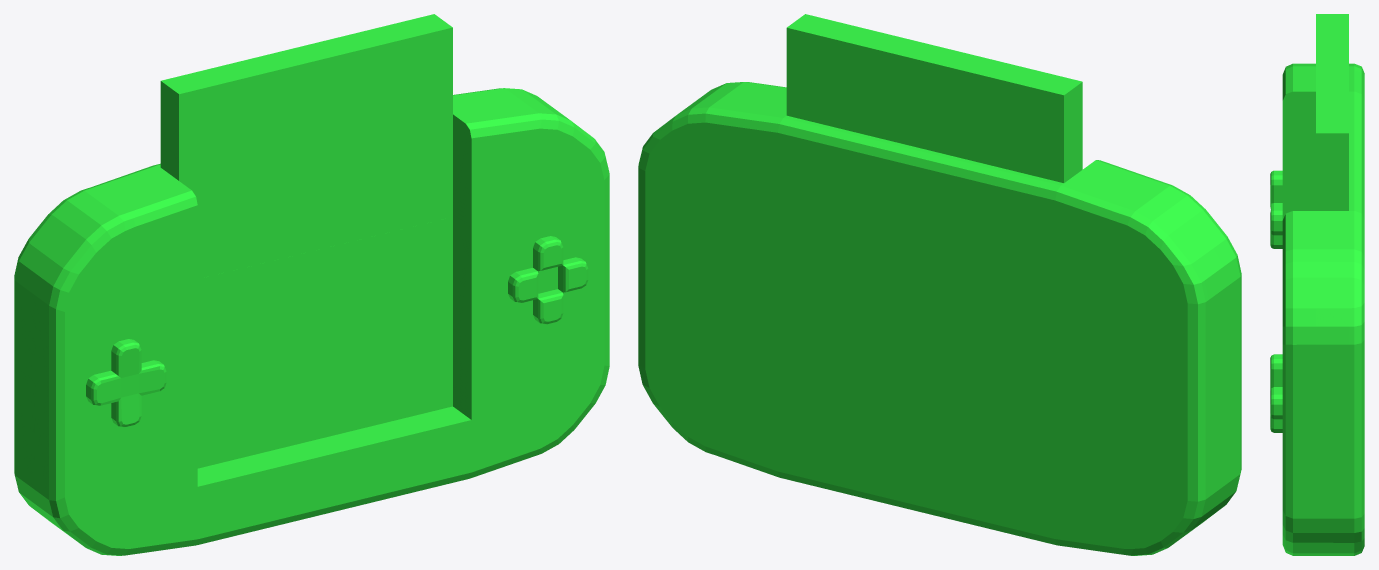
Rendered from StandBy_HandHeld_IndividualOrigins_Jun24_Untextured.fbx.
The picture shows the model from 3 angles, left to right: view 1: azimuth 30°, elevation 25°; view 2: azimuth 150°, elevation 25°; view 3: azimuth 270°, elevation 25°; orthographic projection. The views are drawn at different scales.
Parts seen in each view (by area): view 1: ConsoleBase, ConsoleScreenFront.001, ConsoleScreenBack, ButtonCross, ButtonCrossLeft, ButtonUp, ButtonCrossDown, ButtonCrossRight; view 2: ConsoleBase, ConsoleScreenFront.001; view 3: ConsoleBase, ConsoleScreenFront.001, ButtonCross, ButtonCrossRight, ButtonUp, ButtonCrossDown.
Part boxes in pixels (<box>): ConsoleBase: <box>14,88,609,555</box>; ConsoleScreenFront.001: <box>160,14,452,278</box>; ConsoleScreenBack: <box>197,217,452,468</box>; ButtonCross: <box>86,339,166,427</box>; ButtonCrossLeft: <box>508,268,538,302</box>; ButtonUp: <box>533,236,563,271</box>; ButtonCrossDown: <box>533,289,563,324</box>; ButtonCrossRight: <box>558,257,588,292</box>; ConsoleBase: <box>638,82,1241,555</box>; ConsoleScreenFront.001: <box>786,14,1082,182</box>; ConsoleBase: <box>1282,63,1364,555</box>; ConsoleScreenFront.001: <box>1316,14,1348,210</box>; ButtonCross: <box>1270,170,1282,248</box>; ButtonCrossRight: <box>1270,387,1282,419</box>; ButtonUp: <box>1270,354,1282,386</box>; ButtonCrossDown: <box>1270,416,1282,432</box>.
Bounding box in the file's own units: 449 × 339 × 73.59.
